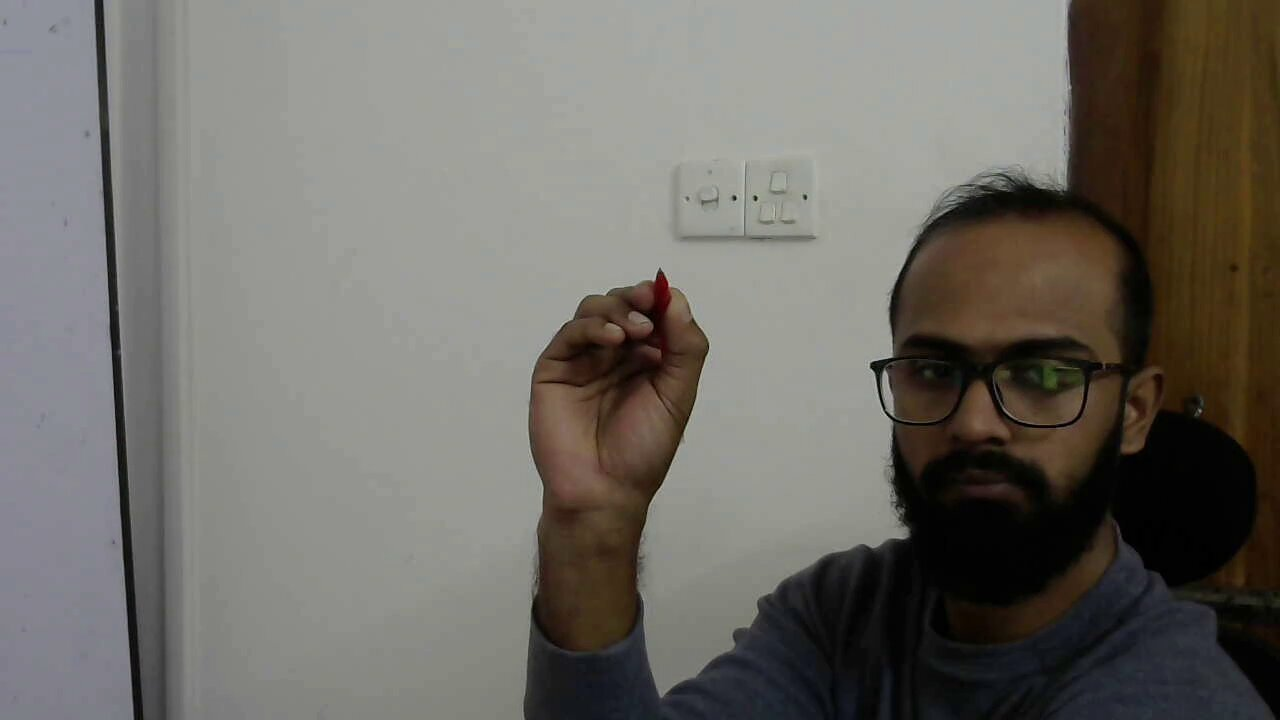pointer: (530, 283, 716, 429)
